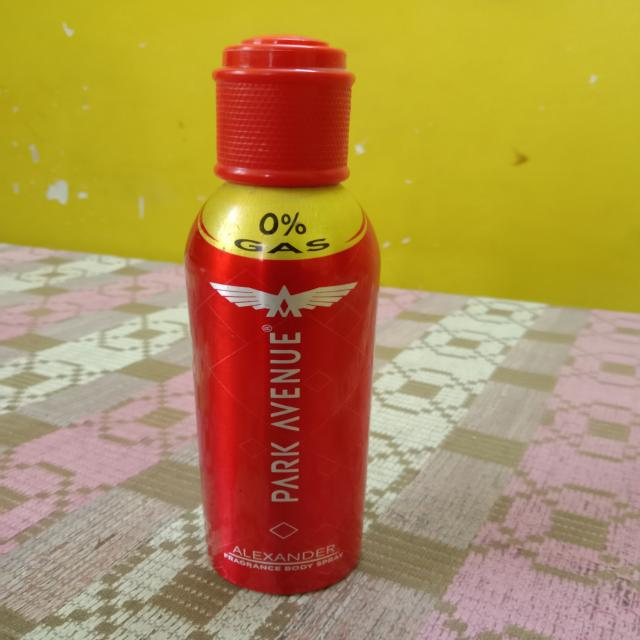deodorant: (172, 22, 384, 604)
